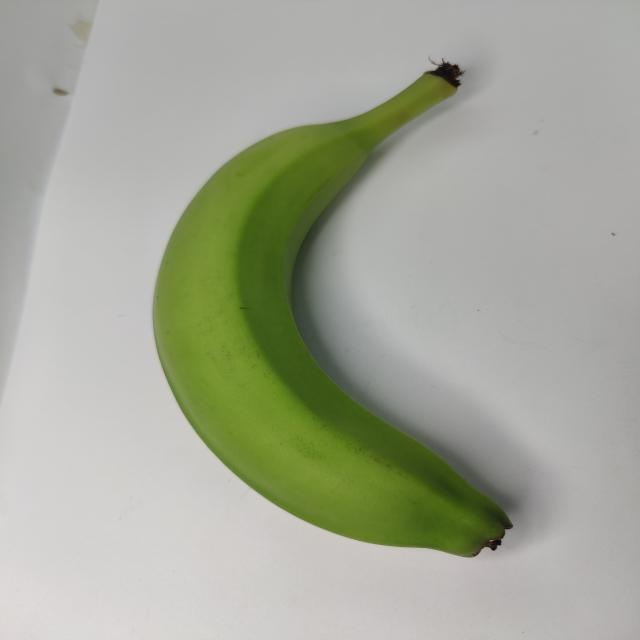raw: (124, 55, 548, 560)
